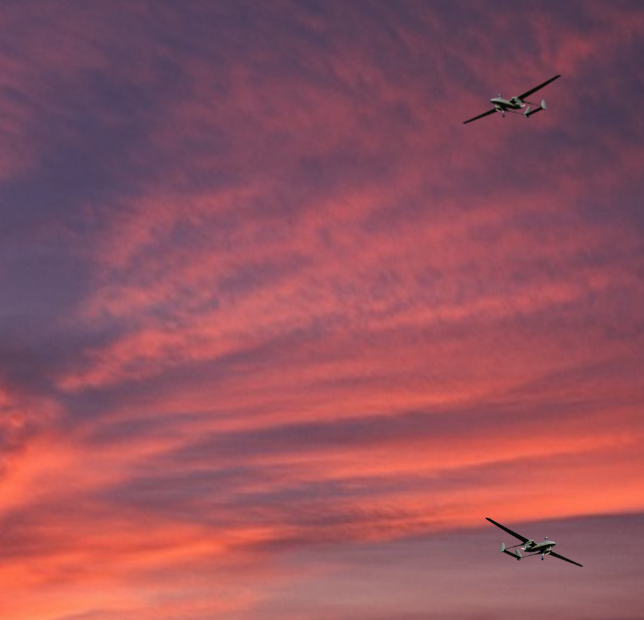military drone: (462, 74, 560, 124), (485, 517, 582, 567)
